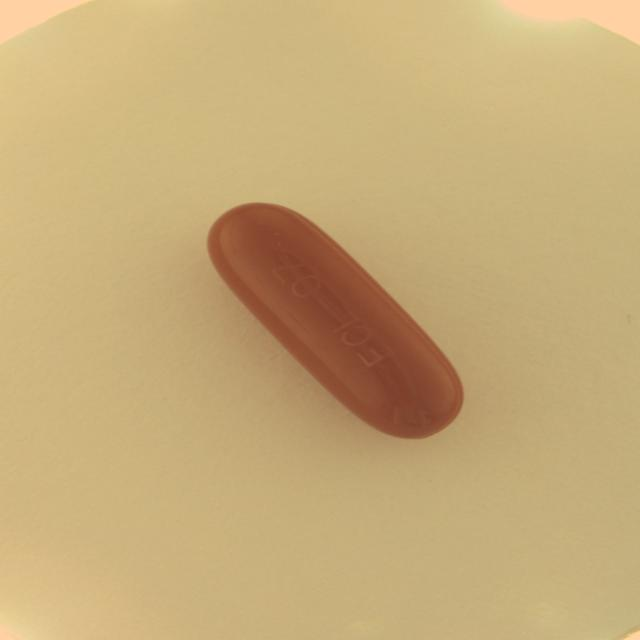Oval: (201, 197, 469, 447)
